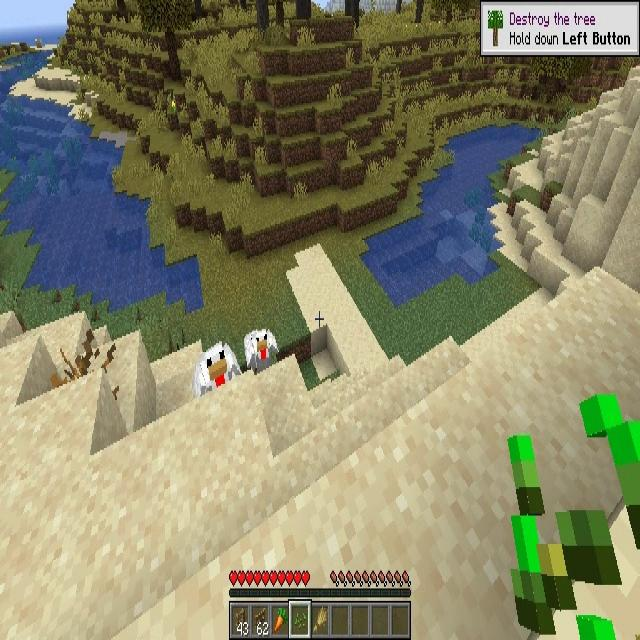duck: (193, 340, 240, 394), (242, 329, 276, 373)
